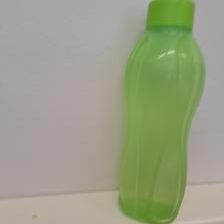bottle: (110, 1, 204, 223)
